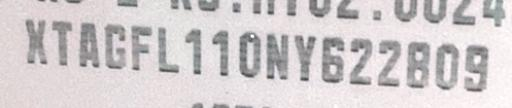letter: (263, 29, 291, 81), (461, 43, 489, 95), (319, 34, 347, 84), (375, 37, 403, 87), (433, 41, 461, 90), (156, 23, 182, 75), (237, 29, 263, 81), (404, 38, 430, 90), (346, 35, 374, 83), (292, 32, 318, 82), (103, 22, 129, 69), (129, 23, 153, 73), (50, 18, 74, 67), (25, 17, 49, 65), (77, 21, 101, 68), (183, 25, 203, 78), (210, 28, 230, 78)
